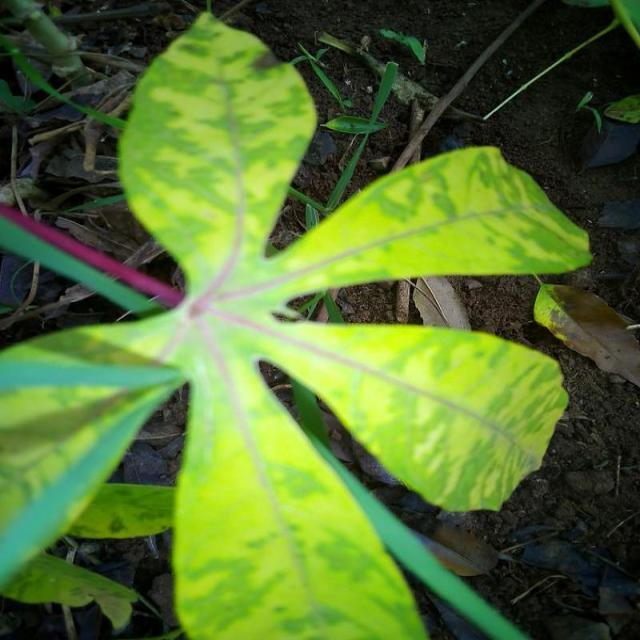cassava leaf: (2, 8, 592, 638)
